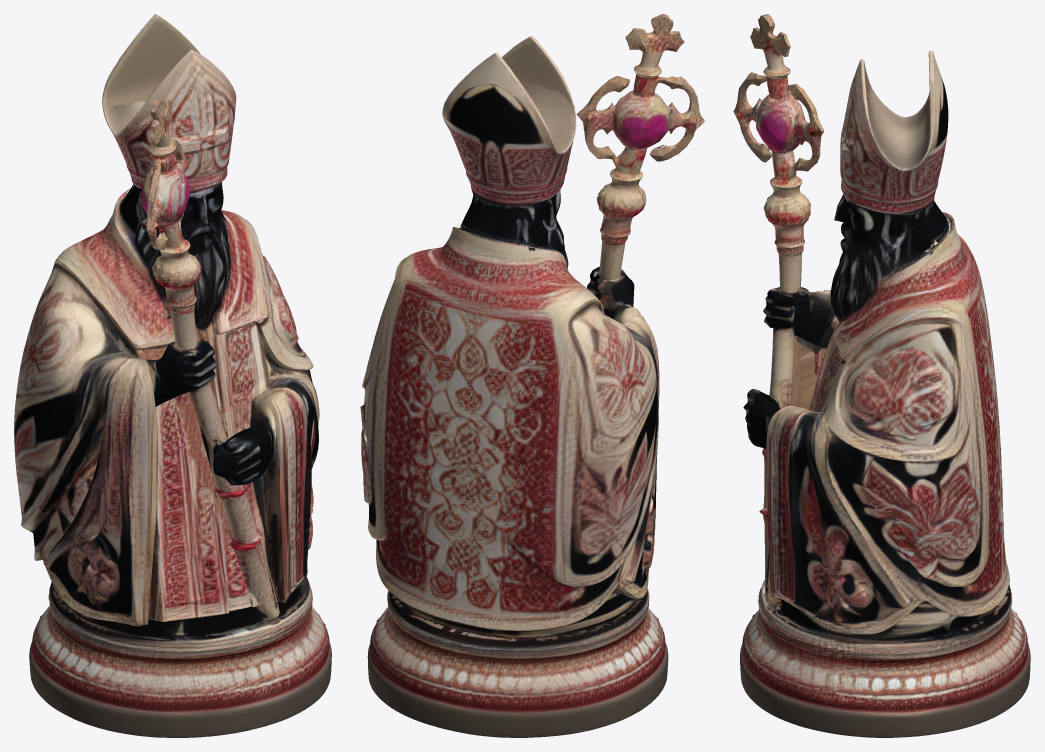
The model's file is bishop_black.glb.
The picture shows the model from 3 angles, left to right: view 1: azimuth 30°, elevation 25°; view 2: azimuth 150°, elevation 25°; view 3: azimuth 270°, elevation 25°; orthographic projection. The views are drawn at different scales.
Visible parts, largest first — view 1: model; view 2: model; view 3: model.
Part boxes in pixels (left/top/right/bottom): model: left=14, top=14, right=331, bottom=737; model: left=360, top=14, right=704, bottom=737; model: left=733, top=14, right=1030, bottom=737.
Bounding box in the file's own units: 0.8332 × 1.9 × 0.8159.
Materials: 1 (1 with a texture image).
